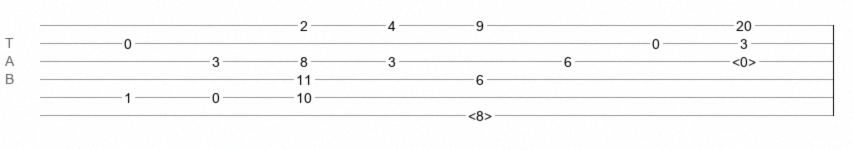0: (124, 36, 132, 46), (212, 90, 220, 100), (652, 36, 660, 46)
1: (124, 90, 132, 100)
10: (296, 90, 312, 100)
11: (296, 72, 312, 82)
2: (300, 18, 308, 28)
20: (736, 18, 752, 28)
3: (212, 54, 220, 64), (388, 54, 396, 64), (740, 36, 748, 46)
4: (388, 18, 396, 28)
6: (476, 72, 484, 82), (564, 54, 572, 64)
8: (300, 54, 308, 64)
9: (476, 18, 484, 28)
harmonic: (468, 108, 492, 118), (732, 54, 756, 64)
